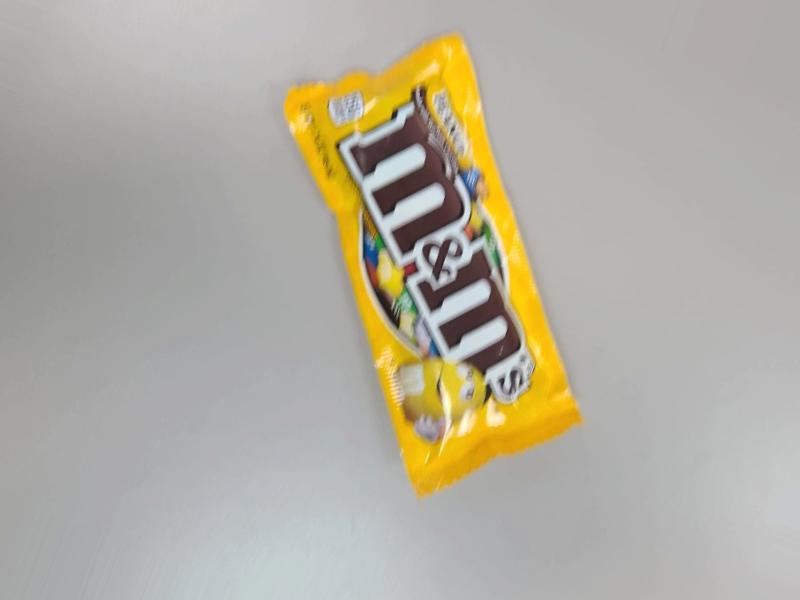m&m: (345, 46, 617, 519)
